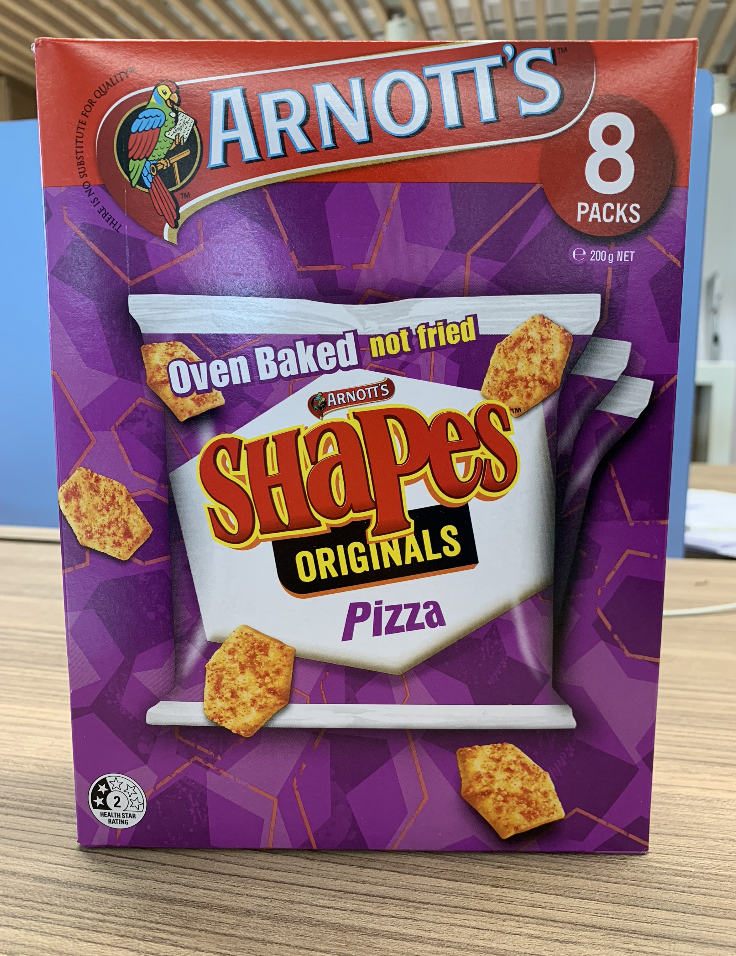crackers_200g-299g: (77, 69, 652, 843)
